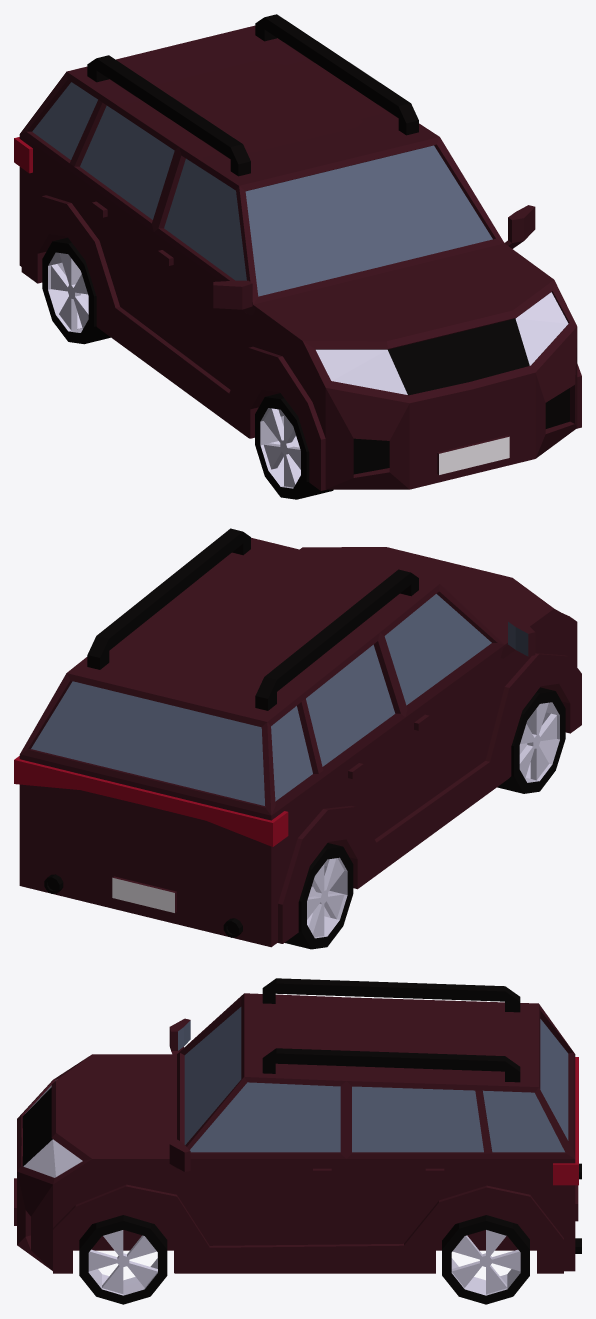
Rendered from mod-utilitario.gltf.
The picture shows the model from 3 angles, top to bottom: view 1: azimuth 30°, elevation 25°; view 2: azimuth 150°, elevation 25°; view 3: azimuth 270°, elevation 25°; orthographic projection. The views are drawn at different scales.
Parts seen in each view (by area): view 1: SUV, SUV wheel front left; view 2: SUV, SUV wheel front left; view 3: SUV, SUV wheel front left.
Boxes of the visible parts, box(x1,y1,x2,y2) form: SUV: box(14, 14, 581, 490); SUV wheel front left: box(42, 237, 333, 499); SUV: box(14, 528, 581, 947); SUV wheel front left: box(285, 687, 565, 949); SUV: box(14, 978, 581, 1273); SUV wheel front left: box(79, 1215, 529, 1304).
Bounding box in the file's own units: 2.48 × 2.02 × 4.43.
